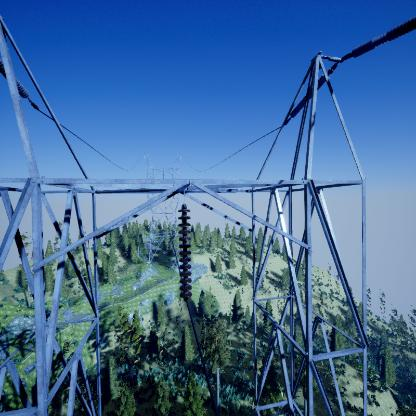insulator: (177, 207, 195, 303)
